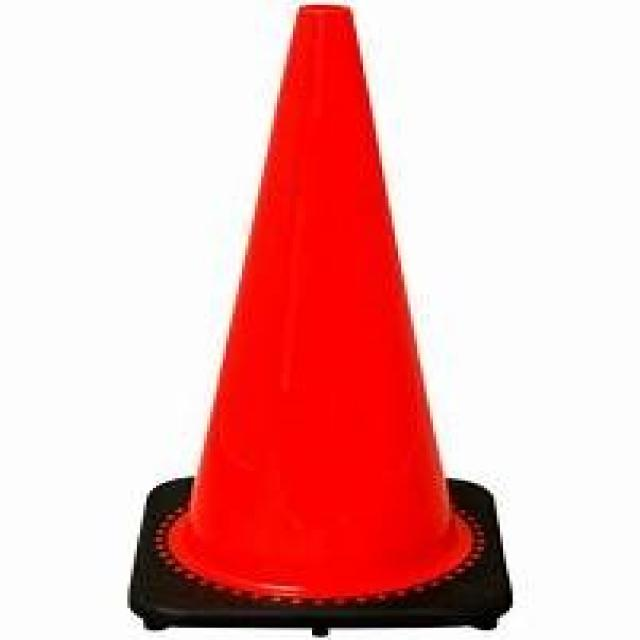traffic cone: (113, 1, 527, 640)
